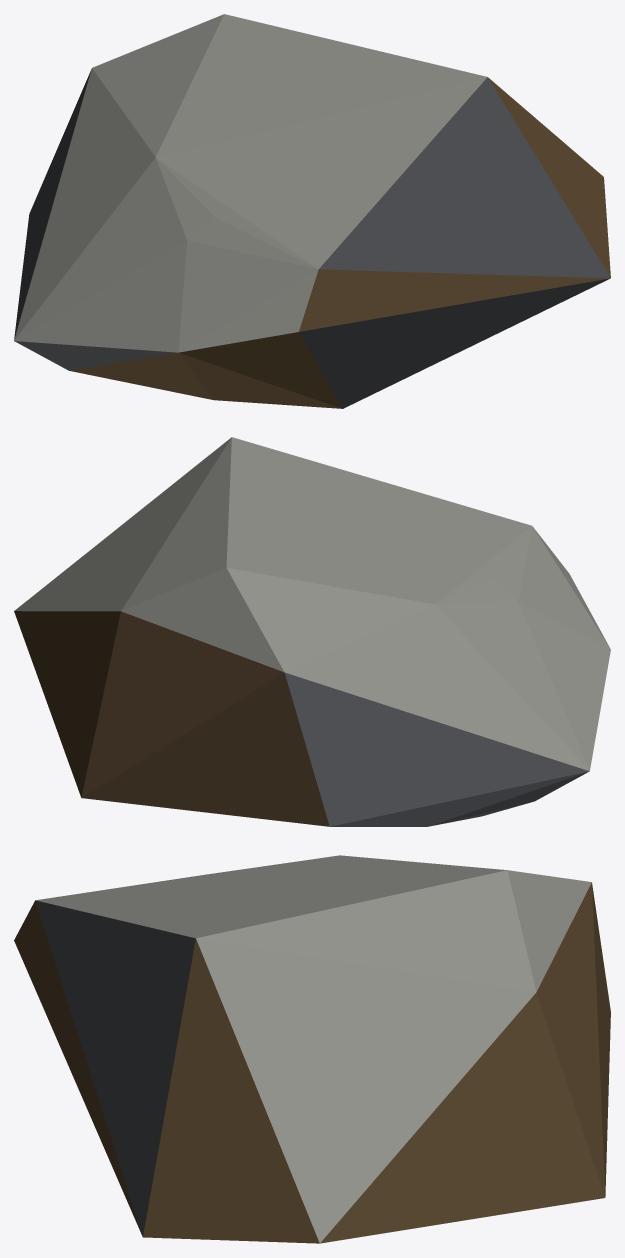
File: rock_small.glb
3 views of the same model, one above another, from view 1: azimuth 30°, elevation 25°; view 2: azimuth 150°, elevation 25°; view 3: azimuth 270°, elevation 25° (orthographic). The views are drawn at different scales.
Parts seen in each view (by area): view 1: rock_small; view 2: rock_small; view 3: rock_small.
Boxes of the visible parts, x1,y1,x2,y2 form: rock_small: (14,14,610,408); rock_small: (14,437,610,826); rock_small: (14,855,610,1243).
Bounding box in the file's own units: 0.4117 × 0.176 × 0.3113.
